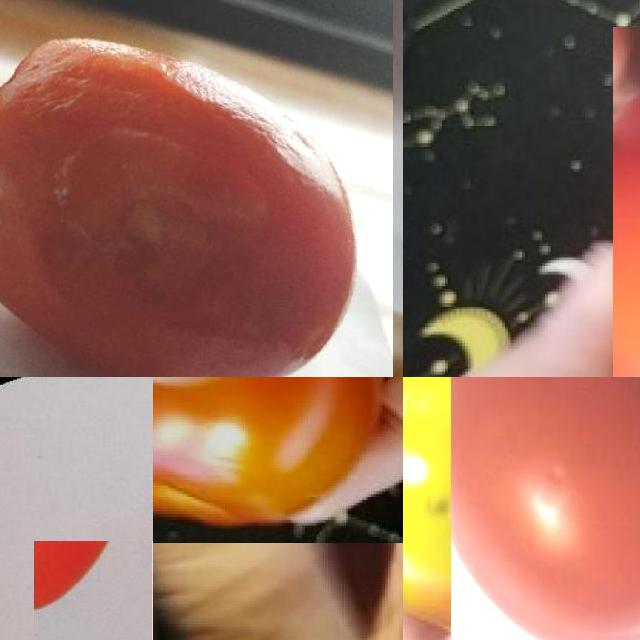0: (153, 377, 403, 543), (34, 541, 153, 640)
Fresh Tomato: (451, 377, 640, 640)
Rotten Tomato: (0, 0, 393, 377), (403, 377, 451, 640)
